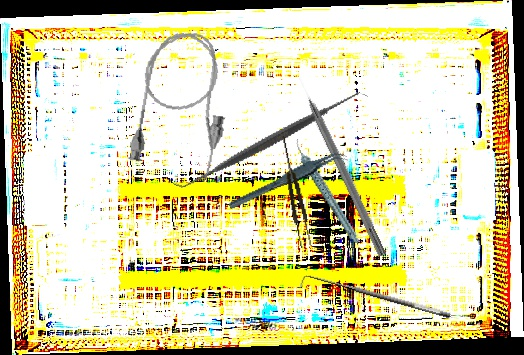Cannula: (126, 25, 238, 185)
Handpiece: (294, 130, 361, 252)
Hook Surgical: (295, 74, 389, 258), (297, 268, 452, 330)
Spatula Surgical: (172, 40, 369, 240)
Tissue Forceps: (223, 148, 352, 211), (277, 134, 313, 249)
